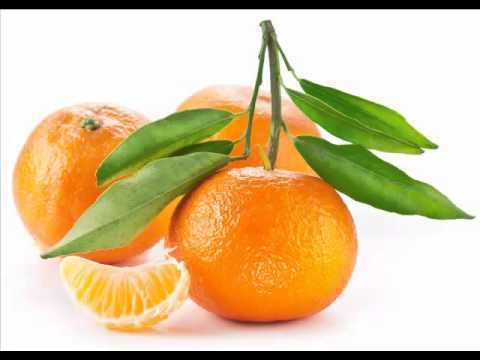orange: (13, 101, 178, 266)
